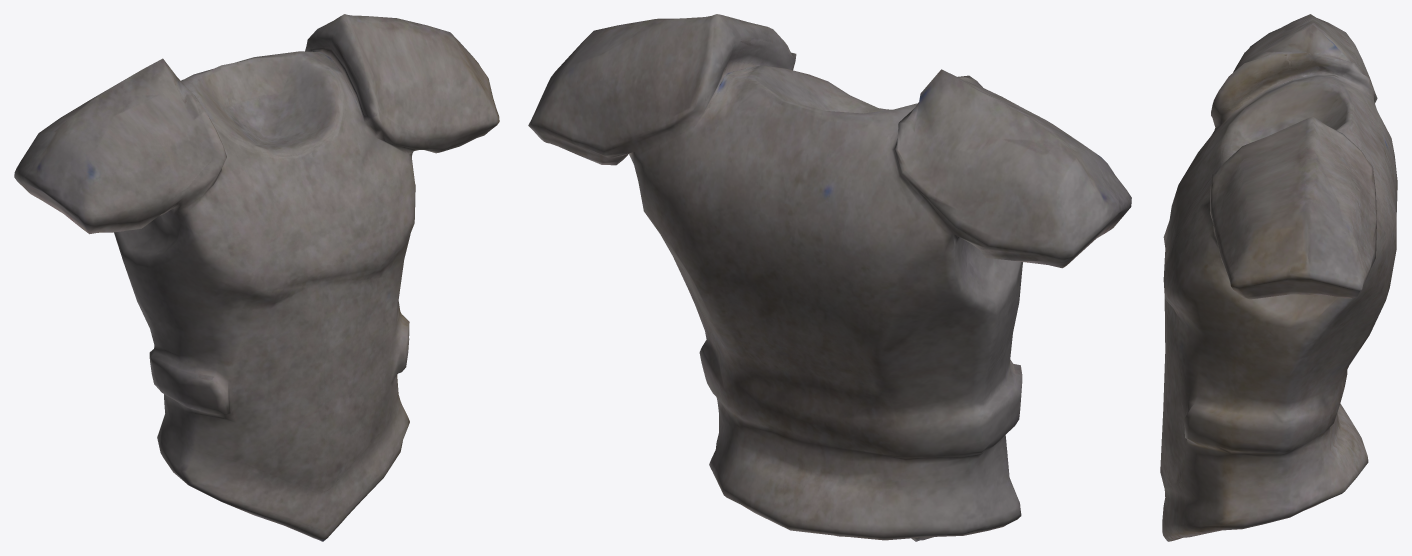
The model's file is body-metal-base.glb.
3 renders of one model, left to right at view 1: azimuth 30°, elevation 25°; view 2: azimuth 150°, elevation 25°; view 3: azimuth 270°, elevation 25°, orthographic. The views are drawn at different scales.
Parts seen in each view (by area): view 1: file1; view 2: file1; view 3: file1.
Boxes of the visible parts, left/top/right/bottom form: file1: left=14, top=14, right=499, bottom=541; file1: left=528, top=14, right=1131, bottom=541; file1: left=1160, top=14, right=1397, bottom=541.
Size of the model in its own units: 1.98 by 1.9 by 0.8662.
Materials: 1 (1 with a texture image).
